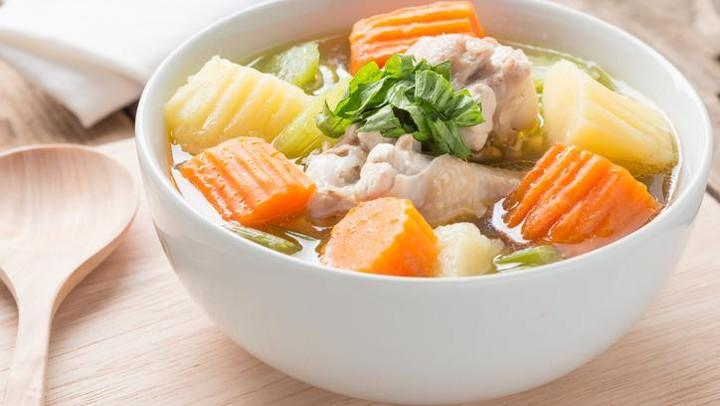buah_sayur_lainnya: (354, 62, 448, 130)
buah_sayur_vitA: (193, 145, 302, 217), (342, 208, 419, 268), (543, 159, 611, 225), (358, 13, 468, 50)
daging: (324, 149, 483, 200)
